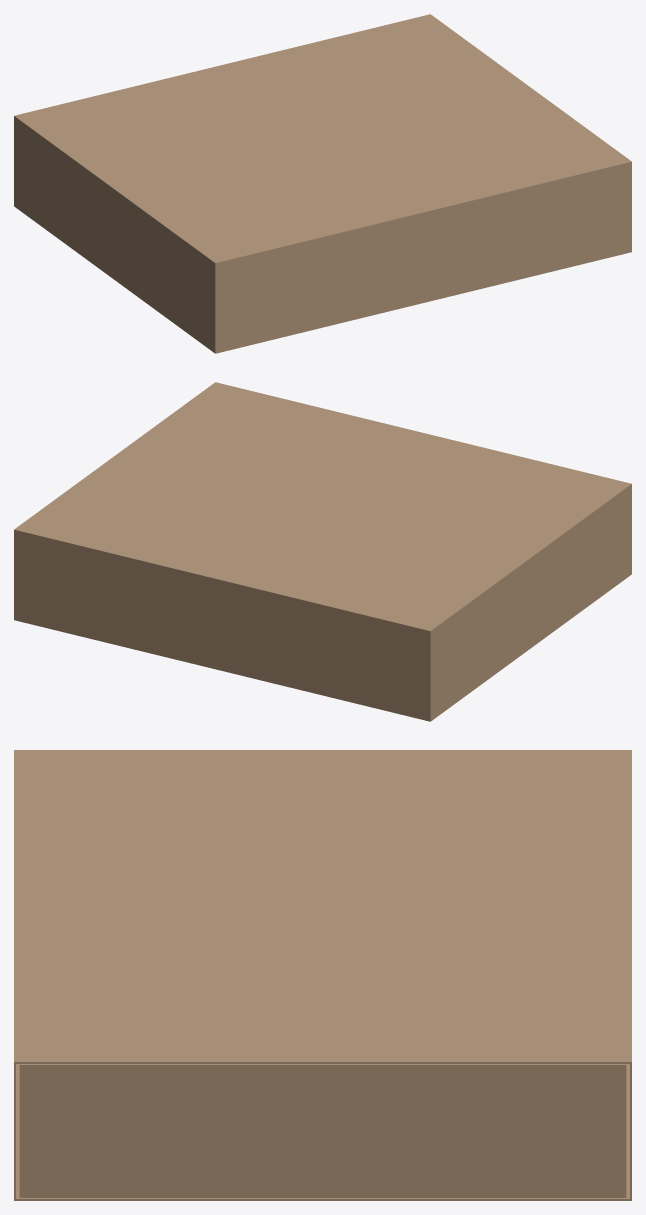
Rendered from preroll-52gr-box-side-closed.glb.
3 renders of one model, top to bottom at view 1: azimuth 30°, elevation 25°; view 2: azimuth 150°, elevation 25°; view 3: azimuth 270°, elevation 25°, orthographic. The views are drawn at different scales.
Parts seen in each view (by area): view 1: p2d_s1, p2d_s2, p2d_s4, p2d_s0; view 2: p2d_s1, p2d_s3, p2d_s4, p2d_s0; view 3: p2d_s1, p2d_d4, p2d_tab, p2d_s0, p2d_s3, p2d_s2.
Part boxes in pixels (x1,y1,x2,y2): p2d_s1: (14, 14, 631, 264); p2d_s2: (214, 161, 631, 353); p2d_s4: (14, 116, 216, 352); p2d_s0: (14, 205, 631, 353); p2d_s1: (14, 382, 631, 632); p2d_s3: (14, 529, 431, 721); p2d_s4: (429, 485, 631, 720); p2d_s0: (14, 573, 631, 721); p2d_s1: (14, 750, 631, 1063); p2d_d4: (19, 1064, 626, 1197); p2d_tab: (323, 1086, 377, 1185); p2d_s0: (14, 1064, 631, 1200); p2d_s3: (630, 751, 631, 1198); p2d_s2: (14, 750, 15, 1198).
Bounding box in the file's own units: 0.154 × 0.032 × 0.129.
